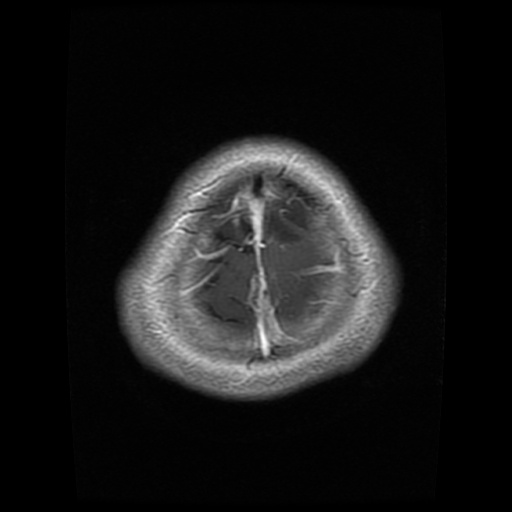glioma: (214, 179, 314, 246)
